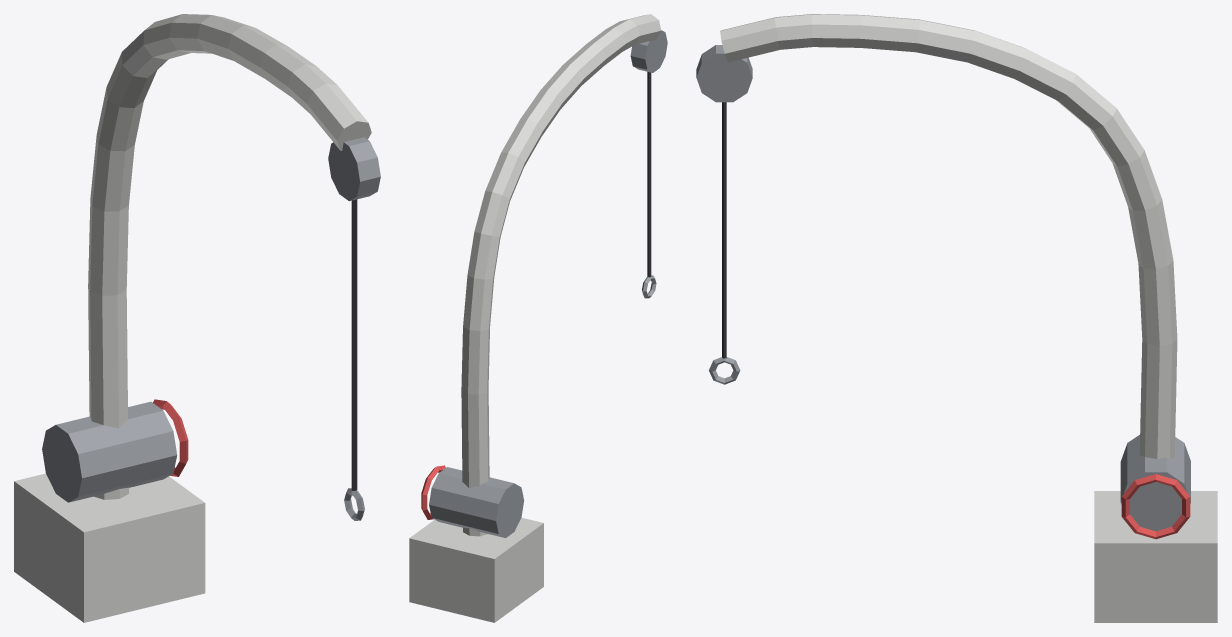
Rendered from CR_Pescante.fbx.
3 renders of one model, left to right at view 1: azimuth 30°, elevation 25°; view 2: azimuth 150°, elevation 25°; view 3: azimuth 270°, elevation 25°, orthographic. The views are drawn at different scales.
Visible parts, largest first — view 1: CR_Pescante; view 2: CR_Pescante; view 3: CR_Pescante.
Part boxes in pixels (<box>): CR_Pescante: <box>14,14,380,622</box>; CR_Pescante: <box>409,14,667,622</box>; CR_Pescante: <box>696,14,1217,622</box>.
Size of the model in its own units: 0.705 by 3.65 by 2.96.
